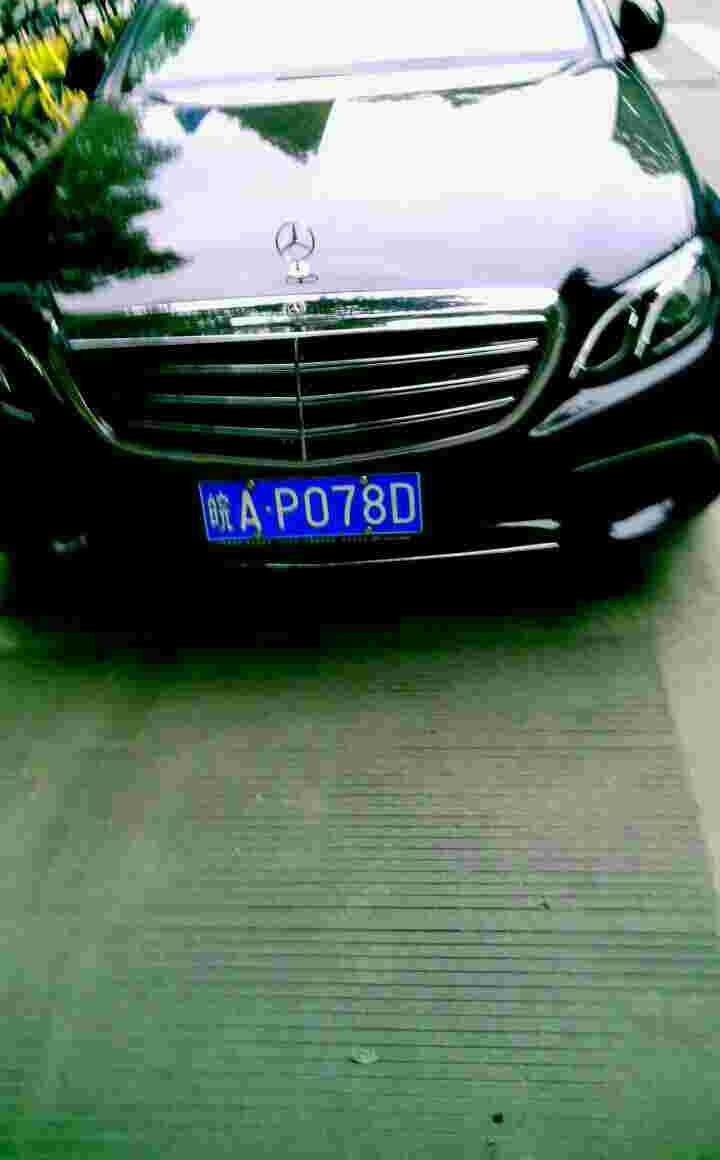license_plate: (200, 465, 428, 548)
